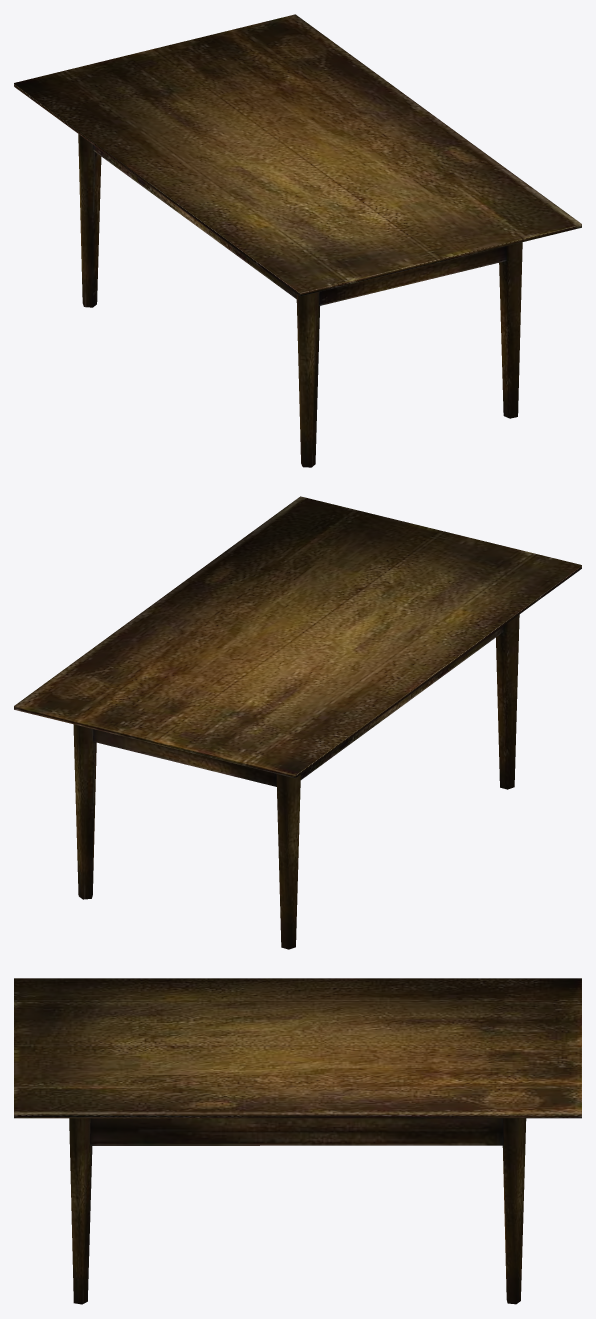
The model's file is furnituretable003a.glb.
The picture shows the model from 3 angles, top to bottom: view 1: azimuth 30°, elevation 25°; view 2: azimuth 150°, elevation 25°; view 3: azimuth 270°, elevation 25°; orthographic projection.
Visible parts, largest first — view 1: 0_FurnitureTable003a; view 2: 0_FurnitureTable003a; view 3: 0_FurnitureTable003a.
Boxes of the visible parts, left/top/right/bottom form: 0_FurnitureTable003a: left=14, top=14, right=581, bottom=467; 0_FurnitureTable003a: left=14, top=496, right=581, bottom=949; 0_FurnitureTable003a: left=14, top=978, right=581, bottom=1304.
Size of the model in its own units: 0.7707 by 0.5409 by 1.36.
Materials: 1 (1 with a texture image).
